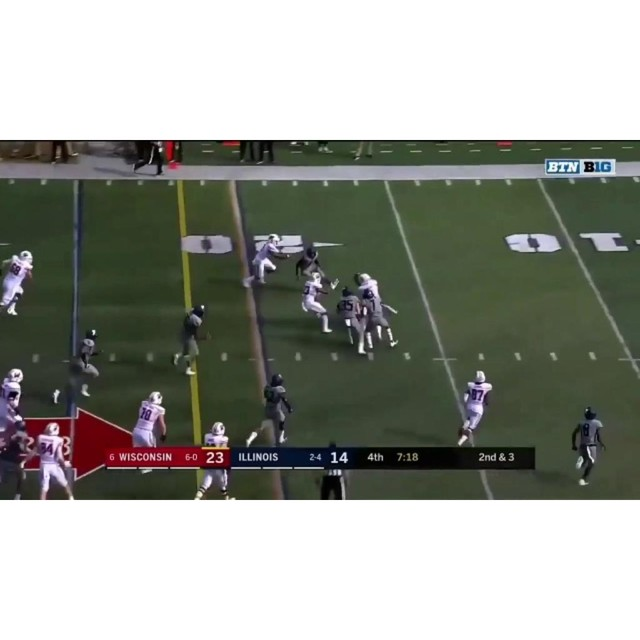american-football-player: (34, 422, 76, 500), (0, 420, 37, 499), (195, 423, 232, 499), (571, 407, 606, 486), (457, 370, 493, 446), (242, 233, 288, 290), (335, 288, 371, 359), (257, 373, 292, 445), (172, 304, 207, 376), (359, 286, 398, 350), (69, 329, 102, 399), (0, 250, 34, 316), (131, 391, 167, 447), (301, 272, 334, 333), (297, 244, 336, 286), (0, 368, 24, 434), (203, 421, 229, 447)
